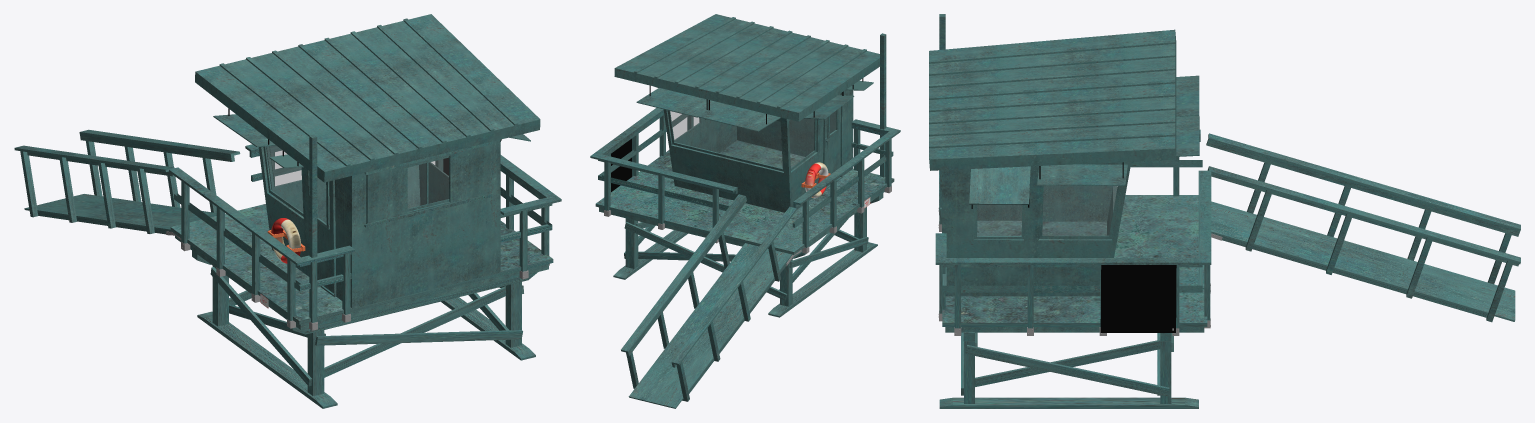
Rendered from beach_hut.glb.
The picture shows the model from 3 angles, left to right: view 1: azimuth 30°, elevation 25°; view 2: azimuth 150°, elevation 25°; view 3: azimuth 270°, elevation 25°; orthographic projection. The views are drawn at different scales.
Visible parts, largest first — view 1: Cube_0, Cube.021_21, Cube.017_17, Cube.027_27, Cube.018_18, Cube.023_23, Cube.029_29, Cube.024_24, Cube.003_3, Torus.001_46; view 2: Cube_0, Cube.021_21, Cube.017_17, Cube.018_18, Cube.027_27, Cube.023_23, Cube.029_29, Cube.002_2, Cube.001_1, Plane.001_45, Cube.003_3, Torus.001_46; view 3: Cube_0, Cube.021_21, Cube.017_17, Cube.018_18, Cube.027_27, Plane.001_45, Cube.029_29, Cube.023_23, Cube.006_6, Cube.005_5, Cube.002_2, Cube.001_1.
Boxes of the visible parts, box(x1,y1,x2,y2) form: Cube_0: box(195, 14, 540, 308); Cube.021_21: box(14, 129, 240, 234); Cube.017_17: box(170, 204, 553, 329); Cube.027_27: box(210, 266, 523, 395); Cube.018_18: box(169, 144, 561, 291); Cube.023_23: box(181, 134, 549, 322); Cube.029_29: box(197, 297, 535, 408); Cube.024_24: box(291, 272, 537, 334); Cube.003_3: box(213, 114, 275, 147); Torus.001_46: box(271, 218, 300, 263); Cube_0: box(614, 14, 879, 212); Cube.021_21: box(621, 194, 796, 408); Cube.017_17: box(595, 140, 894, 258); Cube.018_18: box(590, 107, 900, 227); Cube.027_27: box(624, 207, 868, 306); Cube.023_23: box(604, 33, 891, 247); Cube.029_29: box(613, 230, 877, 317); Cube.002_2: box(636, 88, 719, 117); Cube.001_1: box(697, 102, 780, 131); Plane.001_45: box(611, 138, 631, 191); Cube.003_3: box(804, 95, 854, 119); Torus.001_46: box(805, 162, 828, 198); Cube_0: box(929, 29, 1176, 296); Cube.021_21: box(1206, 133, 1520, 322); Cube.017_17: box(942, 195, 1207, 332); Cube.018_18: box(935, 129, 1211, 292); Cube.027_27: box(961, 332, 1173, 403); Plane.001_45: box(1100, 265, 1176, 332); Cube.029_29: box(939, 397, 1198, 408); Cube.023_23: box(939, 14, 1210, 328); Cube.006_6: box(969, 166, 1030, 204); Cube.005_5: box(1037, 164, 1127, 185); Cube.002_2: box(1176, 115, 1199, 156); Cube.001_1: box(1176, 75, 1199, 116).
Bounding box in the file's own units: 1.71 × 1.69 × 3.21.
Materials: 7 (3 with a texture image).
